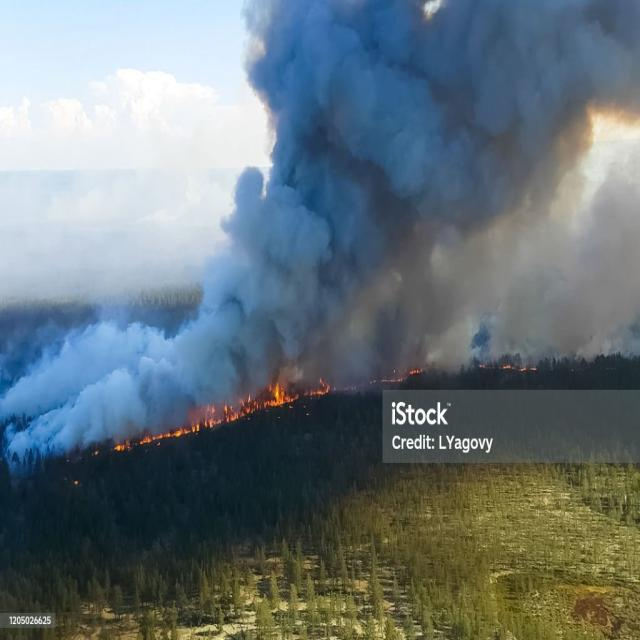Fire: (95, 382, 356, 453)
Smoke: (6, 2, 378, 467), (252, 2, 640, 254)
